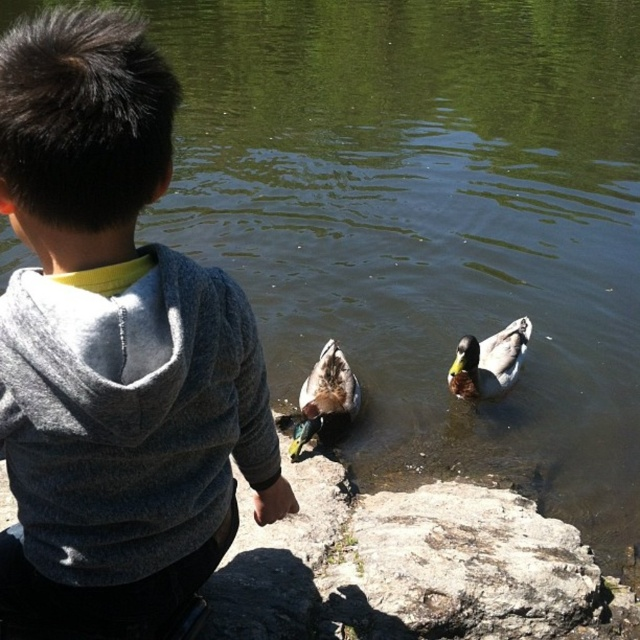Duck: (445, 313, 531, 398), (293, 342, 367, 439)
